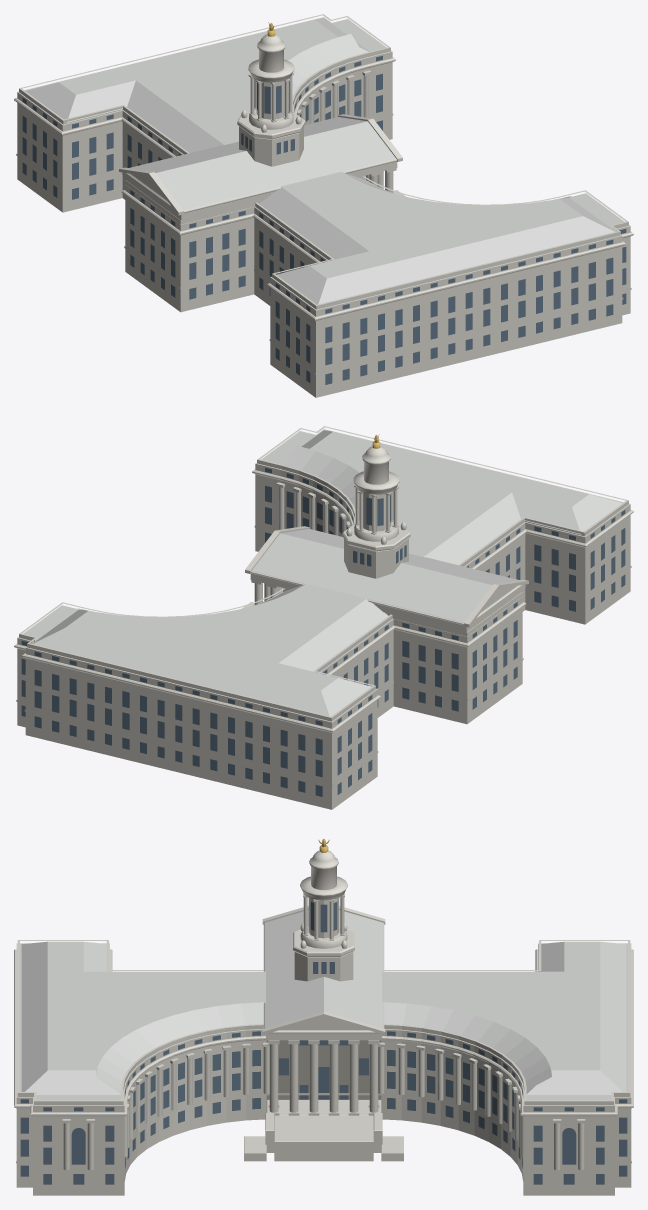
The model's file is den-city-and-county-building.glb.
3 renders of one model, top to bottom at view 1: azimuth 30°, elevation 25°; view 2: azimuth 150°, elevation 25°; view 3: azimuth 270°, elevation 25°, orthographic. The views are drawn at different scales.
Parts seen in each view (by area): view 1: Denver City and County Building; view 2: Denver City and County Building; view 3: Denver City and County Building.
Boxes of the visible parts, x1,y1,x2,y2 form: Denver City and County Building: (14, 14, 633, 397); Denver City and County Building: (14, 426, 633, 809); Denver City and County Building: (14, 839, 633, 1195).
Bounding box in the file's own units: 87.93 × 58.8 × 133.
